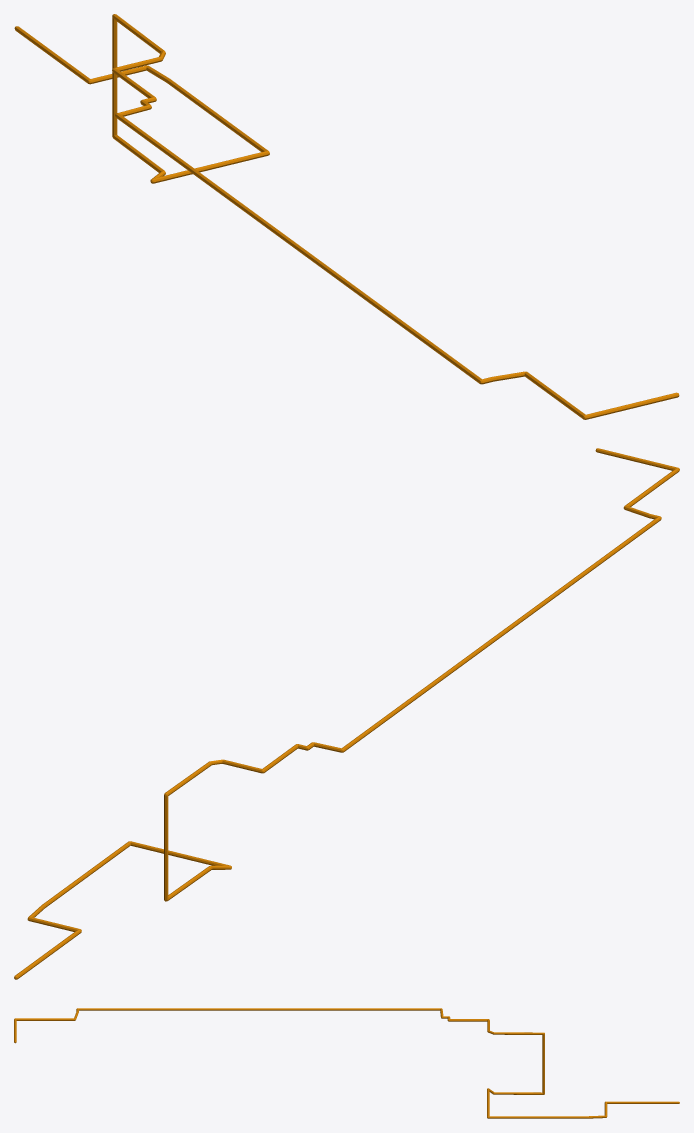
3 views of the same model, one above another, from view 1: azimuth 30°, elevation 25°; view 2: azimuth 150°, elevation 25°; view 3: azimuth 270°, elevation 25° (orthographic). The views are drawn at different scales.
Bounding box in the file's own units: 878 × 520 × 5034.
